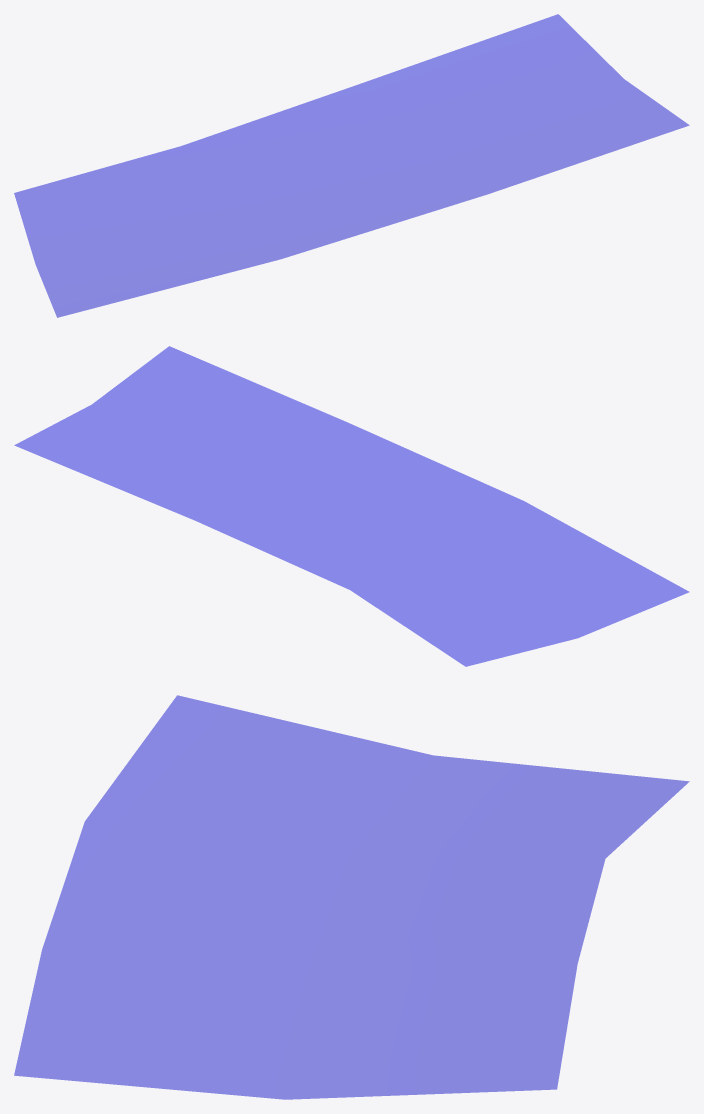
File: track_la_coll_road_39.fbx
The picture shows the model from 3 angles, top to bottom: view 1: azimuth 30°, elevation 25°; view 2: azimuth 150°, elevation 25°; view 3: azimuth 270°, elevation 25°; orthographic projection. The views are drawn at different scales.
Parts seen in each view (by area): view 1: track_la_coll_road_39; view 2: track_la_coll_road_39; view 3: track_la_coll_road_39.
Part boxes in pixels (bbox=[...]): track_la_coll_road_39: bbox=[14, 14, 689, 317]; track_la_coll_road_39: bbox=[14, 346, 688, 666]; track_la_coll_road_39: bbox=[14, 695, 689, 1099].
Size of the model in its own units: 52.06 by 7.46 by 27.32.
